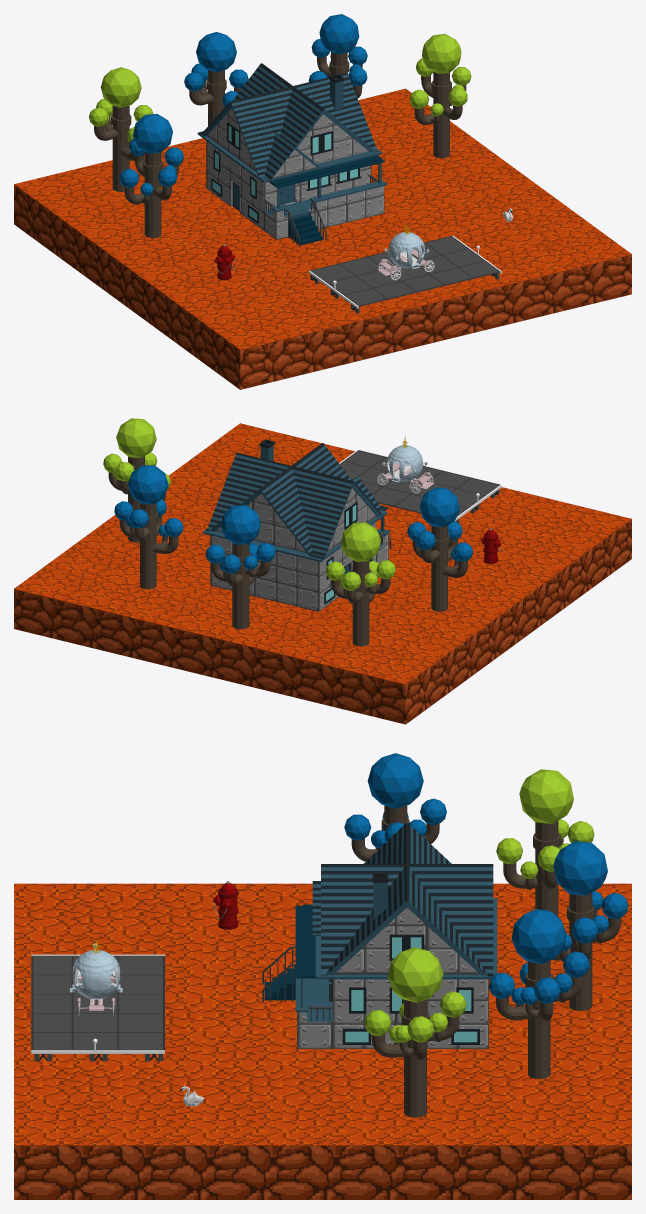
3 renders of one model, top to bottom at view 1: azimuth 30°, elevation 25°; view 2: azimuth 150°, elevation 25°; view 3: azimuth 270°, elevation 25°, orthographic. The views are drawn at different scales.
Parts seen in each view (by area): view 1: Cube.001, Cube.078, VEHICLES_FANTASY_CARRIAGE, OBJRANDOM_FIRE_HYDRANT; view 2: Cube.001, Cube.078, VEHICLES_FANTASY_CARRIAGE, OBJRANDOM_FIRE_HYDRANT; view 3: Cube.001, Cube.078, VEHICLES_FANTASY_CARRIAGE, OBJRANDOM_FIRE_HYDRANT.
Part boxes in pixels (x1,y1,x2,y2): Cube.001: (14,14,631,389); Cube.078: (197,63,387,246); VEHICLES_FANTASY_CARRIAGE: (377,223,434,280); OBJRANDOM_FIRE_HYDRANT: (214,244,235,279); Cube.001: (14,418,631,724); Cube.078: (202,439,391,611); VEHICLES_FANTASY_CARRIAGE: (377,436,433,493); OBJRANDOM_FIRE_HYDRANT: (481,528,501,563); Cube.001: (14,753,631,1199); Cube.078: (262,823,497,1048); VEHICLES_FANTASY_CARRIAGE: (70,939,122,1015); OBJRANDOM_FIRE_HYDRANT: (213,881,238,929).
Bounding box in the file's own units: 4000 × 1687 × 4000.
Materials: 29 (7 with a texture image).
